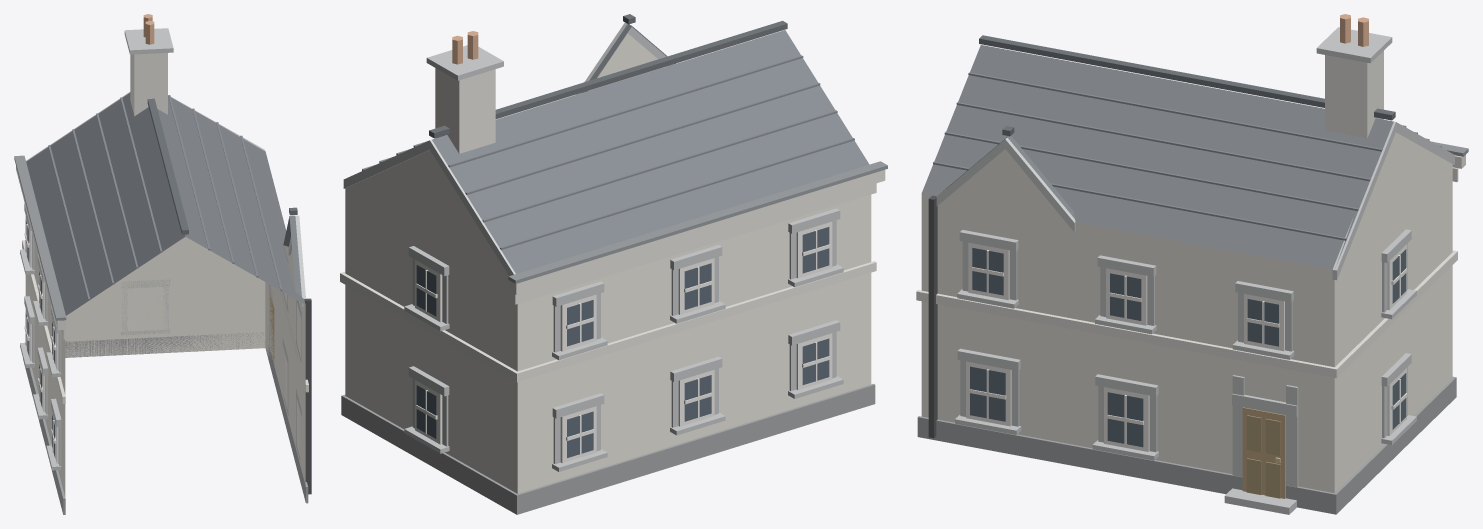
3 renders of one model, left to right at view 1: azimuth 30°, elevation 25°; view 2: azimuth 150°, elevation 25°; view 3: azimuth 270°, elevation 25°, orthographic. The views are drawn at different scales.
Parts seen in each view (by area): view 1: slate, harl_cream, stone_band, plinth, slate_lt, frame, chim_render, lead, pipe, slate_dk, string; view 2: harl_cream, slate, stone_band, string, plinth, frame, slate_lt, chim_render, lead, slate_dk, window_glass_010, window_glass_013 (+7 smaller); view 3: harl_cream, slate, stone_band, plinth, frame, string, slate_lt, chim_render, slate_dk, pipe, door_wood_p, door_wood (+6 smaller).
Boxes of the visible parts, <box> form: slate: <box>26,93,305,315</box>; harl_cream: <box>25,216,305,496</box>; stone_band: <box>20,28,305,470</box>; plinth: <box>23,332,308,514</box>; slate_lt: <box>48,95,282,300</box>; frame: <box>24,218,300,463</box>; chim_render: <box>130,53,167,116</box>; lead: <box>14,155,66,320</box>; pipe: <box>304,298,311,494</box>; slate_dk: <box>147,98,297,234</box>; string: <box>16,166,308,403</box>; harl_cream: <box>345,33,871,493</box>; slate: <box>432,24,869,273</box>; stone_band: <box>343,22,843,471</box>; string: <box>340,170,885,382</box>; plinth: <box>341,383,875,514</box>; frame: <box>415,221,832,463</box>; slate_lt: <box>362,55,854,249</box>; chim_render: <box>435,68,495,153</box>; lead: <box>508,161,887,283</box>; slate_dk: <box>429,14,787,138</box>; window_glass_010: <box>684,375,711,421</box>; window_glass_013: <box>802,227,829,273</box>; harl_cream: <box>921,132,1452,493</box>; slate: <box>921,45,1393,269</box>; stone_band: <box>936,27,1454,514</box>; plinth: <box>917,376,1456,514</box>; frame: <box>966,242,1407,451</box>; string: <box>916,155,1465,378</box>; slate_lt: <box>933,72,1441,240</box>; chim_render: <box>1325,51,1383,138</box>; slate_dk: <box>979,35,1395,136</box>; pipe: <box>928,195,937,438</box>; door_wood_p: <box>1246,415,1280,498</box>; door_wood: <box>1242,407,1285,498</box>.
Size of the model in its own units: 9.76 by 9.73 by 11.33.
